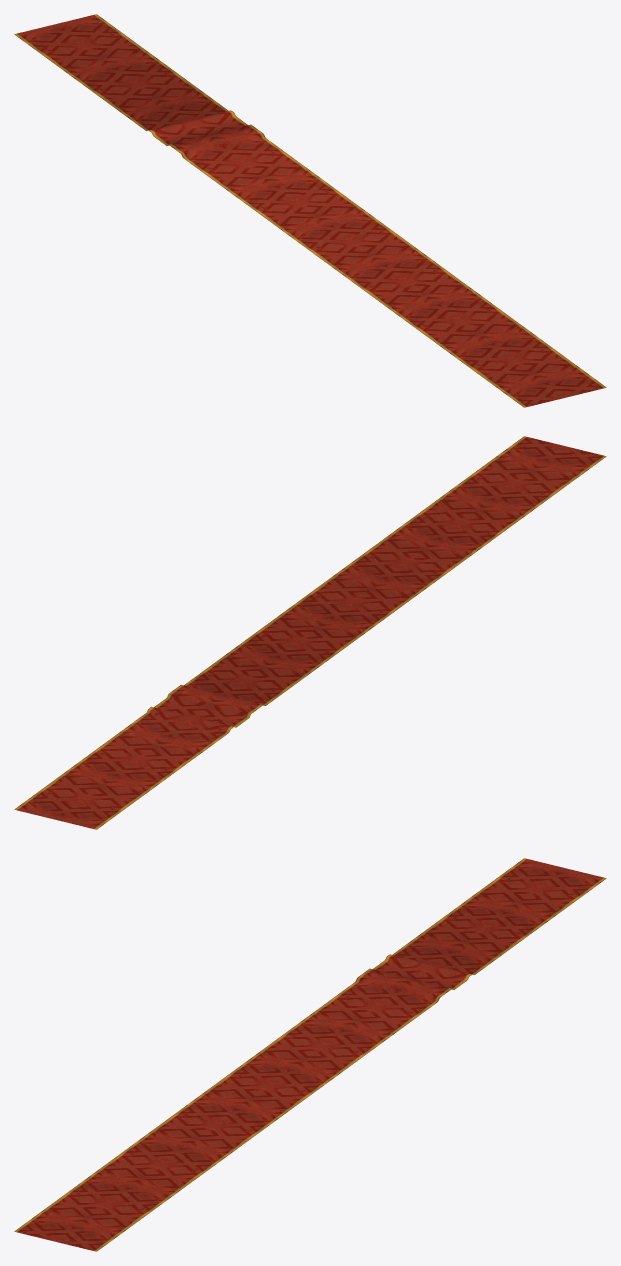
Rendered from ditan.FBX.
The picture shows the model from 3 angles, top to bottom: view 1: azimuth 30°, elevation 25°; view 2: azimuth 150°, elevation 25°; view 3: azimuth 330°, elevation 25°; orthographic projection.
Parts seen in each view (by area): view 1: ditan; view 2: ditan; view 3: ditan.
Boxes of the visible parts, x1=… form: ditan: x1=14, y1=14, x2=606, y2=407; ditan: x1=14, y1=436, x2=606, y2=829; ditan: x1=14, y1=858, x2=606, y2=1251.
Size of the model in its own units: 161 by 4.97 by 1718.
